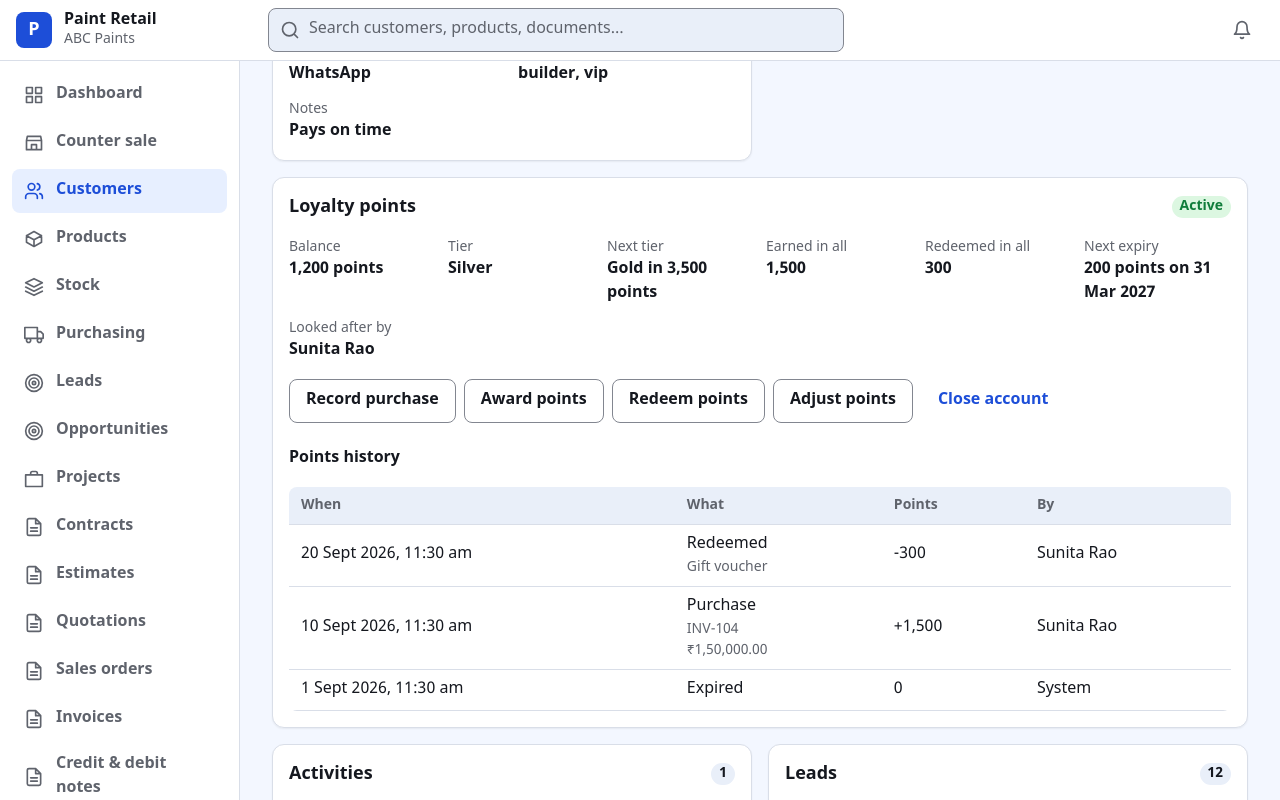
Test: LoyaltyPanel › closes an account and reopens a closed one
(page scrolled)
Click the button "Close account".
click(993, 401)  # box [921,379,1065,423]
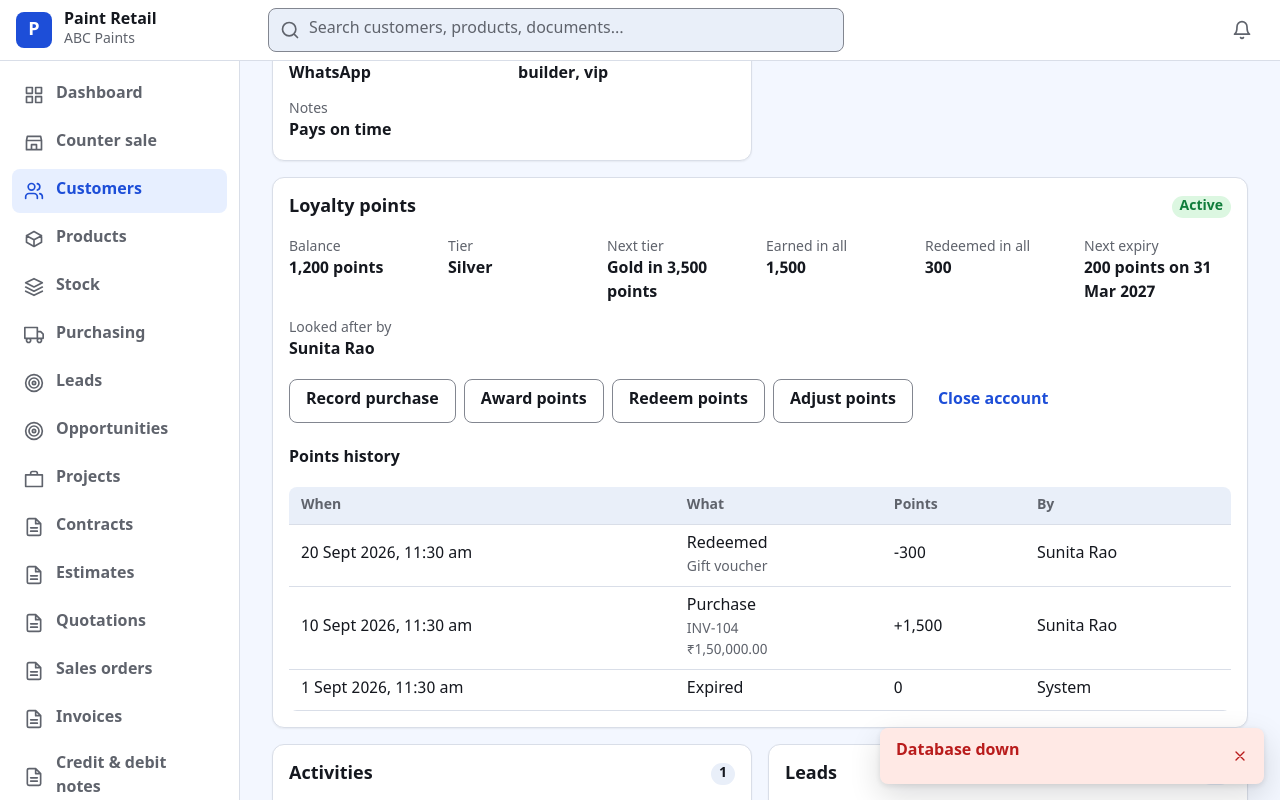
Expected: the text "Database down" is shown, [896,741,1019,762]
Click the button "Close account".
click(993, 401)  # box [921,379,1065,423]
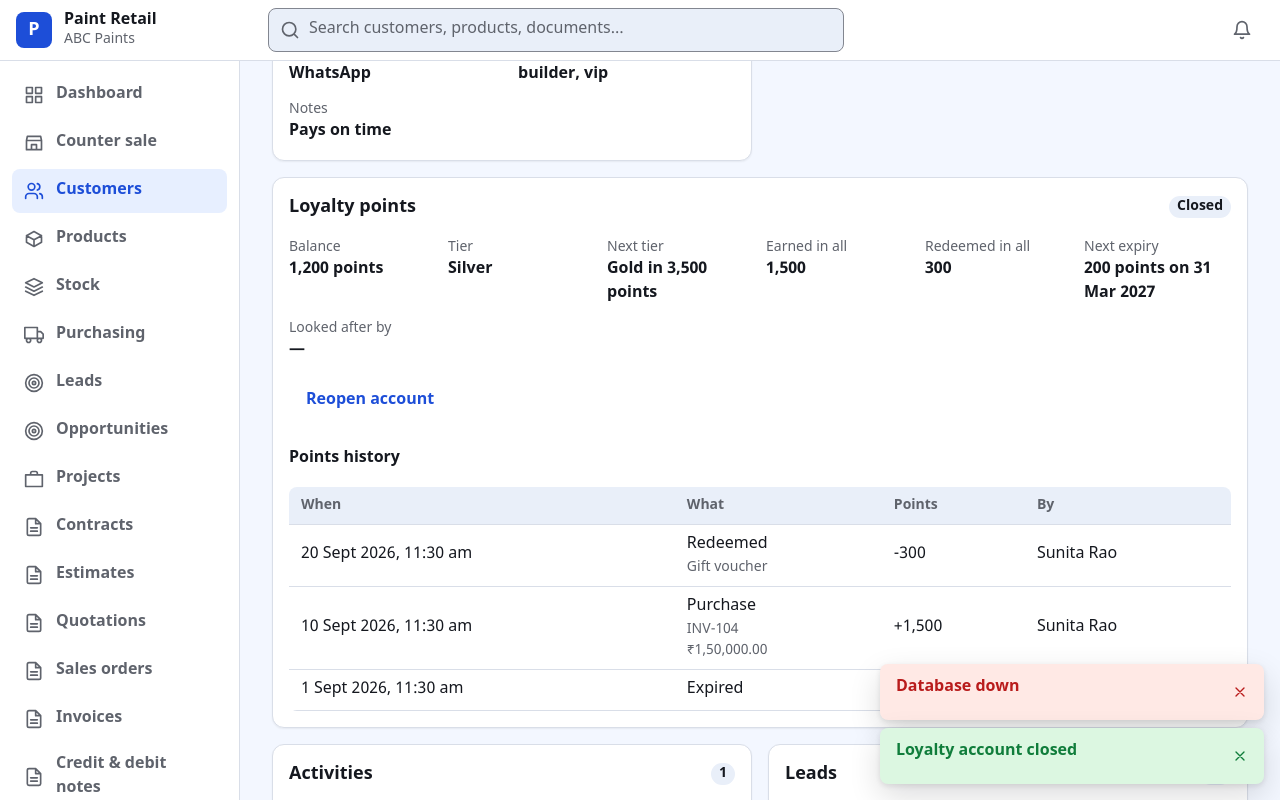
Expected: the text "Loyalty account closed" is shown, [896,741,1077,762]
Expected: the text "Closed" is shown, [1169,196,1231,218]
Expected: the button "Award points" is gone
Click the button "Reopen account".
click(370, 401)  # box [289,379,451,423]
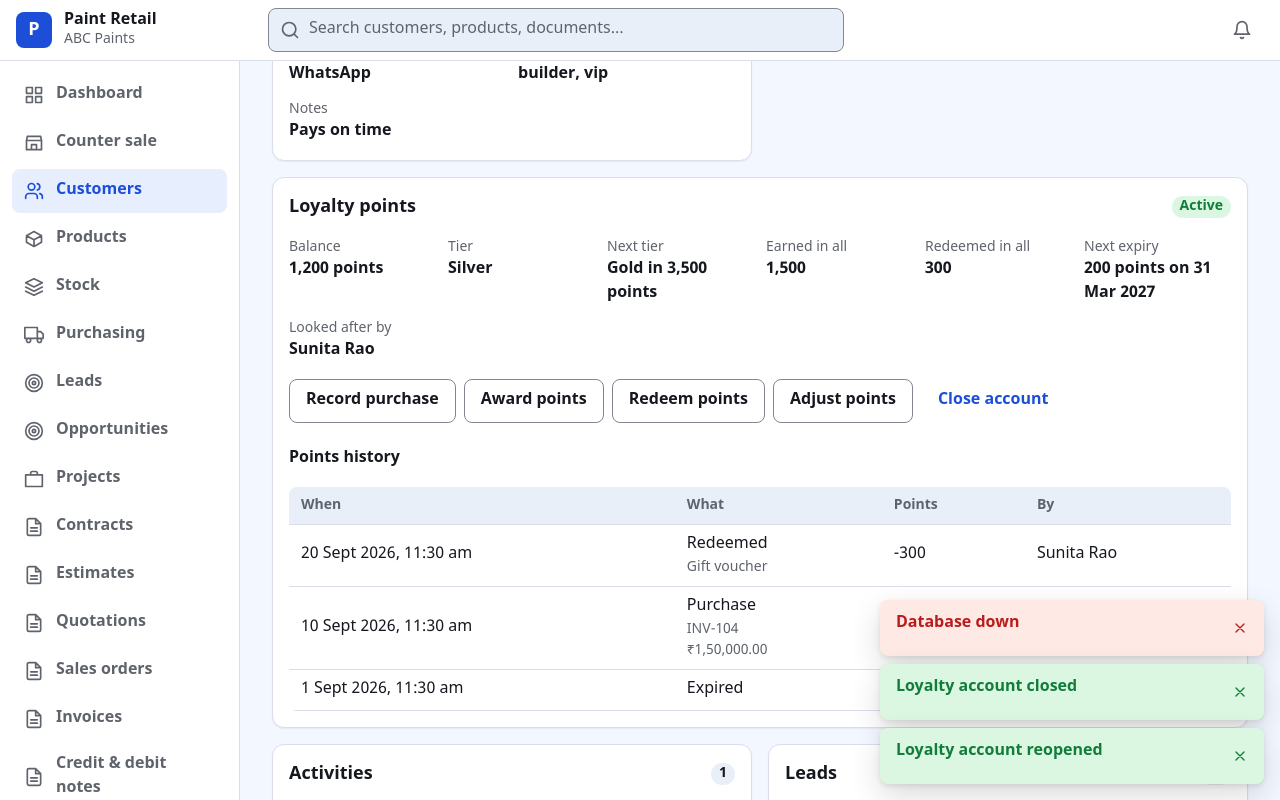
Expected: the text "Loyalty account reopened" is shown, [896,741,1103,762]
